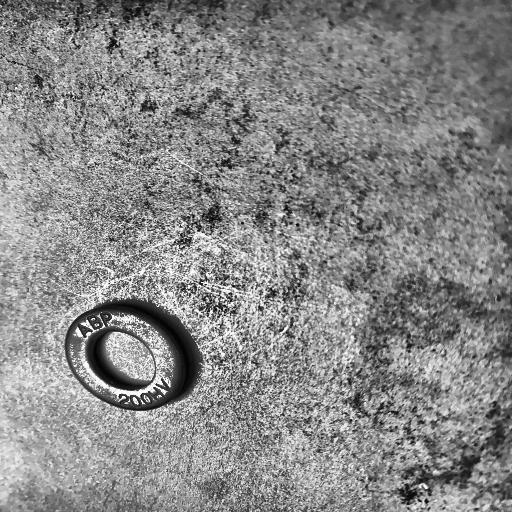Washer: (64, 300, 199, 413)
